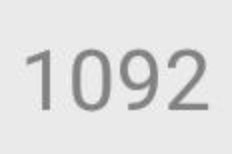TextView: (1, 1, 231, 153)
